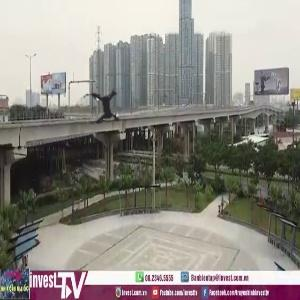drone: (66, 70, 147, 151)
